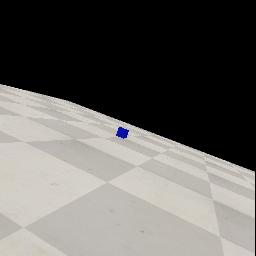box: (116, 127, 129, 139)
